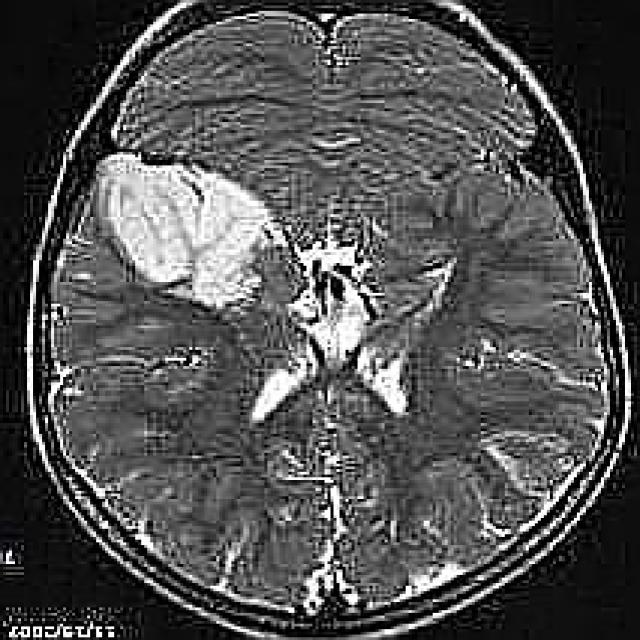Tumor-Cell: (91, 142, 292, 322)
